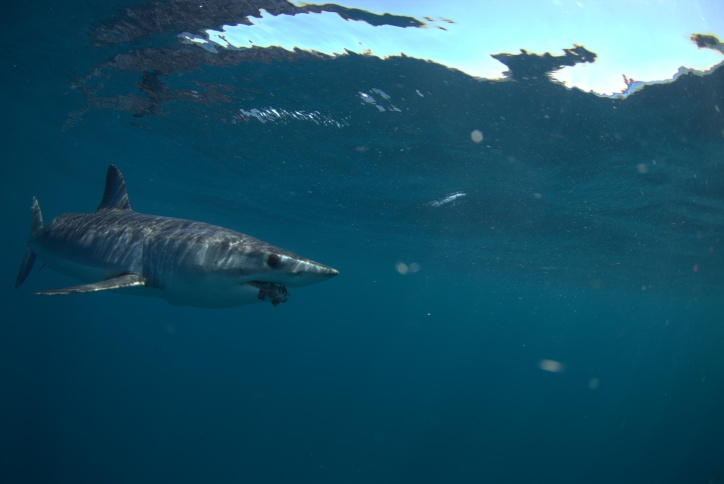Mako: (11, 163, 349, 327)
